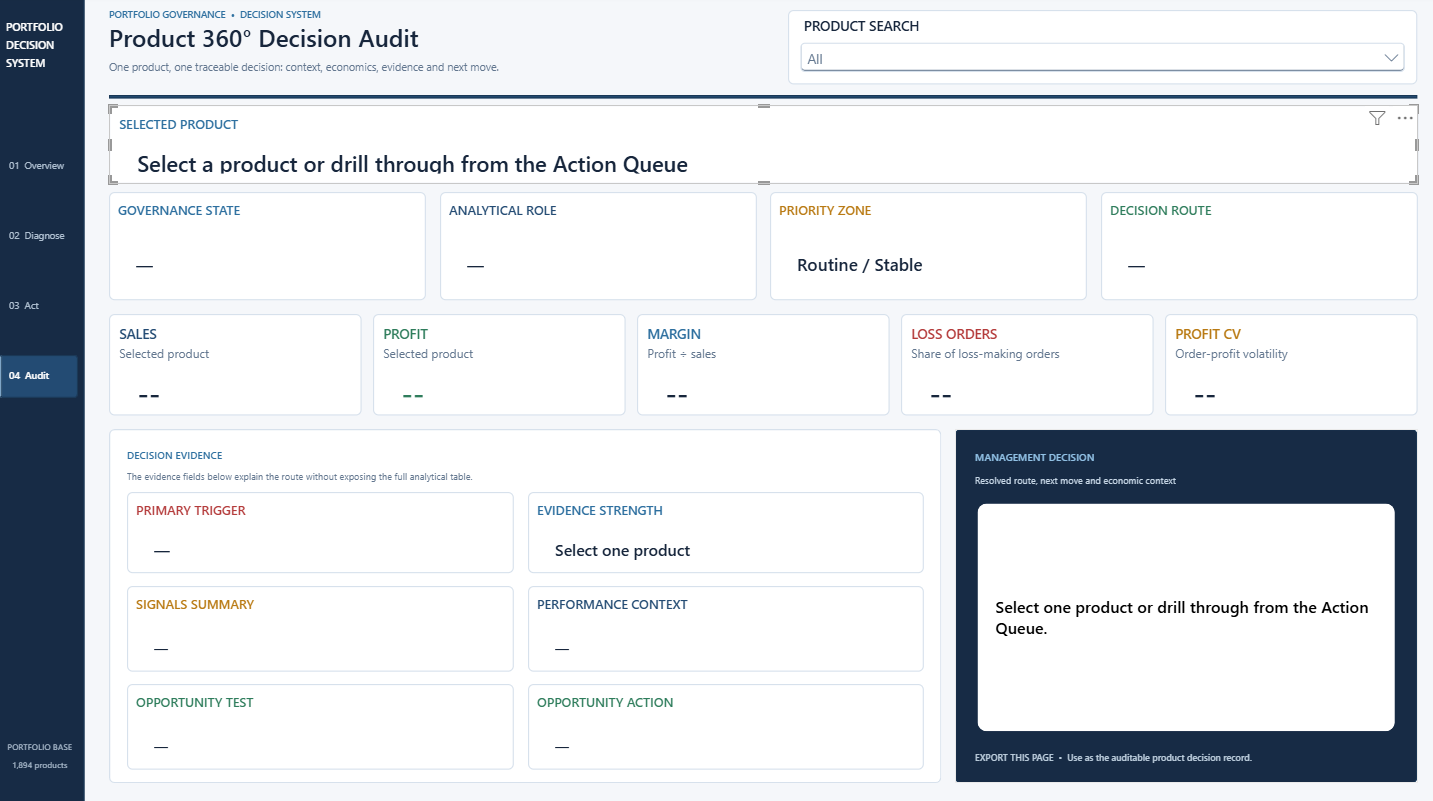

Layout of this report page (visuals, bound fields, positions):
{"tool":"powerbi","page":{"name":"04 Product 360° Decision Audit","canvas":[1280,720],"ordinal":3},"visuals":[{"type":"shape","box":[0,0,82,720],"z":1000},{"type":"textbox","box":[12,18,60,62],"z":2000},{"type":"textbox","box":[15,140,57,20],"z":3000},{"type":"textbox","box":[15,202,57,20],"z":4000},{"type":"textbox","box":[15,264,57,20],"z":5000},{"type":"shape","box":[6,318,70,38],"z":6000},{"type":"shape","box":[6,318,3,38],"z":7000},{"type":"textbox","box":[15,326,57,20],"z":8000},{"type":"textbox","box":[12,655,60,42],"z":9000},{"type":"textbox","box":[104,6,560,16],"z":10000},{"type":"textbox","box":[104,22,575,31],"z":11000},{"type":"textbox","box":[104,53,575,22],"z":12000},{"type":"slicer","fields":{"Values":["Products.Product"]},"box":[706,12,558,66],"z":13000},{"type":"shape","box":[104,88,1160,3],"z":14000},{"type":"cardVisual","title":"SELECTED PRODUCT","fields":{"Data":["Products.Selected Product"]},"box":[104,100,1160,62],"z":15000},{"type":"cardVisual","title":"GOVERNANCE STATE","fields":{"Data":["Products.Selected Governance State"]},"box":[104,174,281,96],"z":16000},{"type":"cardVisual","title":"ANALYTICAL ROLE","fields":{"Data":["Products.Selected Analytical Role"]},"box":[397,174,281,96],"z":17000},{"type":"cardVisual","title":"PRIORITY ZONE","fields":{"Data":["Products.Selected Priority Zone"]},"box":[690,174,281,96],"z":18000},{"type":"cardVisual","title":"DECISION ROUTE","fields":{"Data":["Products.Selected Final Intervention"]},"box":[983,174,281,96],"z":19000},{"type":"cardVisual","title":"SALES","fields":{"Data":["Products.Sales"]},"box":[104,282,224,90],"z":20000},{"type":"cardVisual","title":"PROFIT","fields":{"Data":["Products.Profit"]},"box":[338,282,224,90],"z":21000},{"type":"cardVisual","title":"MARGIN","fields":{"Data":["Products.Margin"]},"box":[572,282,224,90],"z":22000},{"type":"cardVisual","title":"LOSS ORDERS","fields":{"Data":["Products.Loss Orders %"]},"box":[806,282,224,90],"z":23000},{"type":"cardVisual","title":"PROFIT CV","fields":{"Data":["Products.Profit CV"]},"box":[1040,282,224,90],"z":24000},{"type":"shape","box":[104,384,738,314],"z":25000},{"type":"textbox","box":[120,397,706,18],"z":26000},{"type":"textbox","box":[120,416,706,17],"z":27000},{"type":"cardVisual","title":"PRIMARY TRIGGER","fields":{"Data":["Products.Selected Primary Signal"]},"box":[120,440,343,72],"z":28000},{"type":"cardVisual","title":"EVIDENCE STRENGTH","fields":{"Data":["Products.Decision Evidence"]},"box":[475,440,351,72],"z":29000},{"type":"cardVisual","title":"SIGNALS SUMMARY","fields":{"Data":["Products.Selected Signals Summary"]},"box":[120,523,343,76],"z":30000},{"type":"cardVisual","title":"PERFORMANCE CONTEXT","fields":{"Data":["Products.Selected Performance Context"]},"box":[475,523,351,76],"z":31000},{"type":"cardVisual","title":"OPPORTUNITY TEST","fields":{"Data":["Products.Selected Opportunity Quality"]},"box":[120,610,343,76],"z":32000},{"type":"cardVisual","title":"OPPORTUNITY ACTION","fields":{"Data":["Products.Selected Opportunity Action"]},"box":[475,610,351,76],"z":33000},{"type":"shape","box":[854,384,410,314],"z":34000},{"type":"textbox","box":[872,399,374,18],"z":35000},{"type":"textbox","box":[872,419,374,18],"z":36000},{"type":"cardVisual","fields":{"Data":["Products.Decision Brief"]},"box":[870,446,378,210],"z":37000},{"type":"textbox","box":[872,665,374,18],"z":38000}]}

Visuals, with their boxes on the page's 1280x720 design canvas (x1, y1, x2, y2). These are canvas units, not pixel positions in the 1433x801 screenshot, which may show the page scaled, cropped or inside an application window:
shape: l=0, t=0, r=82, b=720
textbox: l=12, t=18, r=72, b=80
textbox: l=15, t=140, r=72, b=160
textbox: l=15, t=202, r=72, b=222
textbox: l=15, t=264, r=72, b=284
shape: l=6, t=318, r=76, b=356
shape: l=6, t=318, r=9, b=356
textbox: l=15, t=326, r=72, b=346
textbox: l=12, t=655, r=72, b=697
textbox: l=104, t=6, r=664, b=22
textbox: l=104, t=22, r=679, b=53
textbox: l=104, t=53, r=679, b=75
slicer - Products.Product: l=706, t=12, r=1264, b=78
shape: l=104, t=88, r=1264, b=91
"SELECTED PRODUCT" cardVisual: l=104, t=100, r=1264, b=162
"GOVERNANCE STATE" cardVisual: l=104, t=174, r=385, b=270
"ANALYTICAL ROLE" cardVisual: l=397, t=174, r=678, b=270
"PRIORITY ZONE" cardVisual: l=690, t=174, r=971, b=270
"DECISION ROUTE" cardVisual: l=983, t=174, r=1264, b=270
"SALES" cardVisual: l=104, t=282, r=328, b=372
"PROFIT" cardVisual: l=338, t=282, r=562, b=372
"MARGIN" cardVisual: l=572, t=282, r=796, b=372
"LOSS ORDERS" cardVisual: l=806, t=282, r=1030, b=372
"PROFIT CV" cardVisual: l=1040, t=282, r=1264, b=372
shape: l=104, t=384, r=842, b=698
textbox: l=120, t=397, r=826, b=415
textbox: l=120, t=416, r=826, b=433
"PRIMARY TRIGGER" cardVisual: l=120, t=440, r=463, b=512
"EVIDENCE STRENGTH" cardVisual: l=475, t=440, r=826, b=512
"SIGNALS SUMMARY" cardVisual: l=120, t=523, r=463, b=599
"PERFORMANCE CONTEXT" cardVisual: l=475, t=523, r=826, b=599
"OPPORTUNITY TEST" cardVisual: l=120, t=610, r=463, b=686
"OPPORTUNITY ACTION" cardVisual: l=475, t=610, r=826, b=686
shape: l=854, t=384, r=1264, b=698
textbox: l=872, t=399, r=1246, b=417
textbox: l=872, t=419, r=1246, b=437
cardVisual - Products.Decision Brief: l=870, t=446, r=1248, b=656
textbox: l=872, t=665, r=1246, b=683
